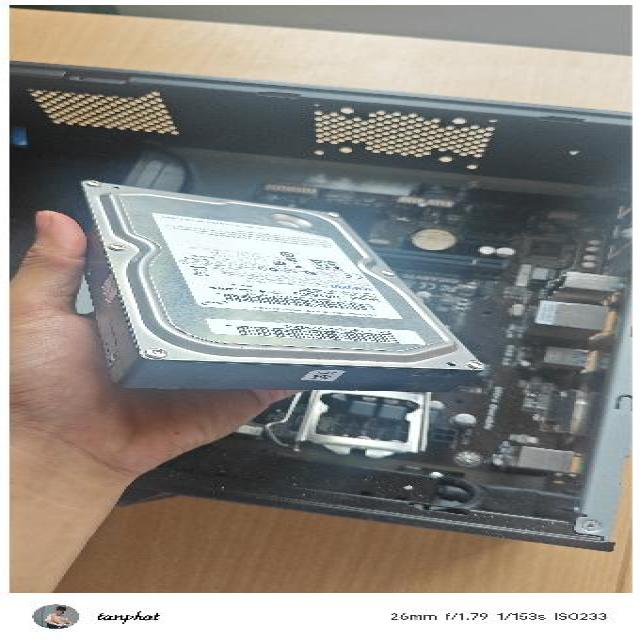DISK: (68, 177, 486, 398)
